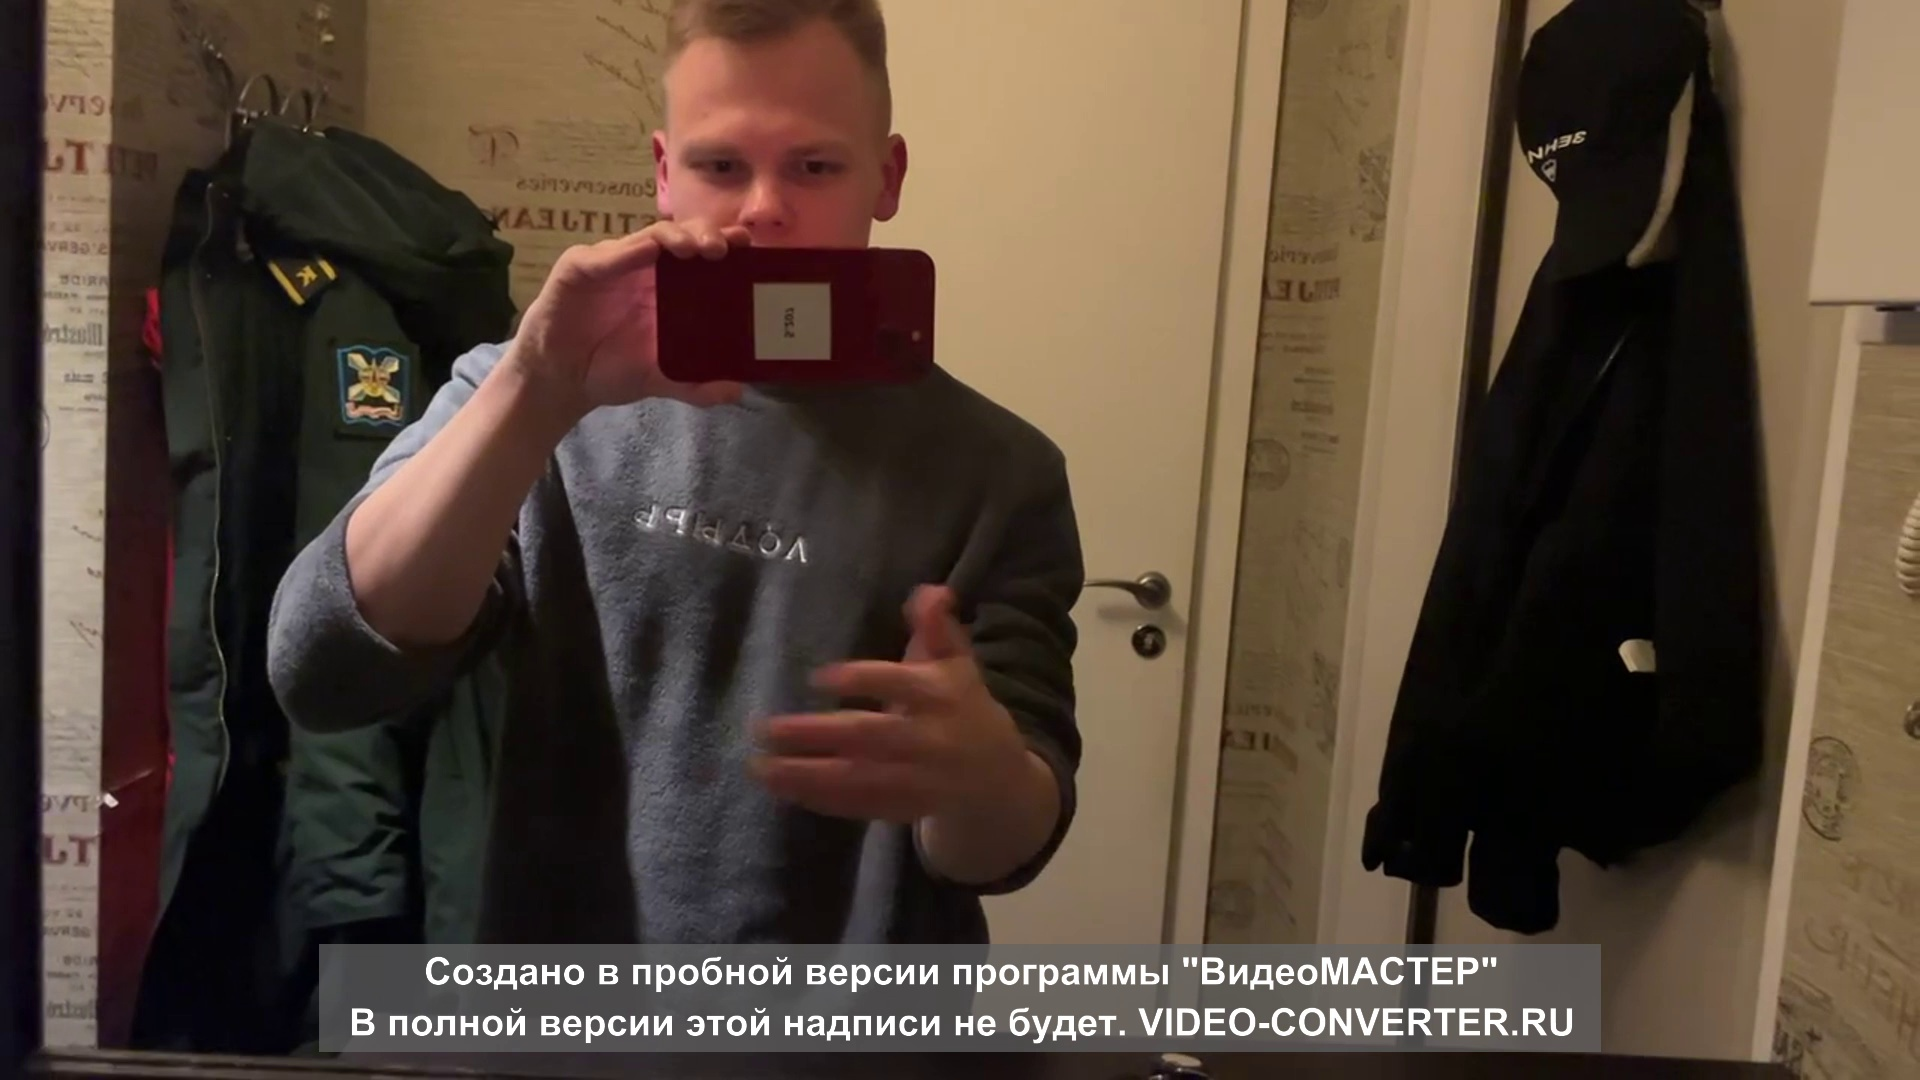Кисть: (758, 582, 1025, 825)
